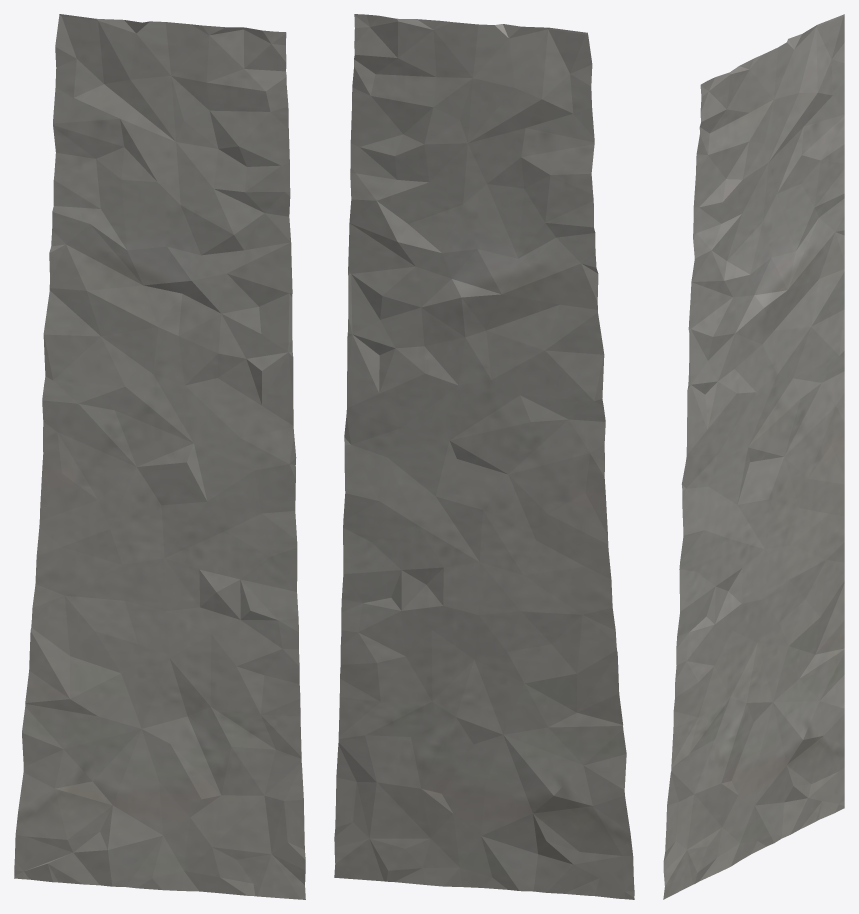
The picture shows the model from 3 angles, left to right: view 1: azimuth 30°, elevation 25°; view 2: azimuth 210°, elevation 25°; view 3: azimuth 270°, elevation 25°; orthographic projection. The views are drawn at different scales.
Size of the model in its own units: 0.2021 by 0.8373 by 0.1689.
Materials: 1 (1 with a texture image).
